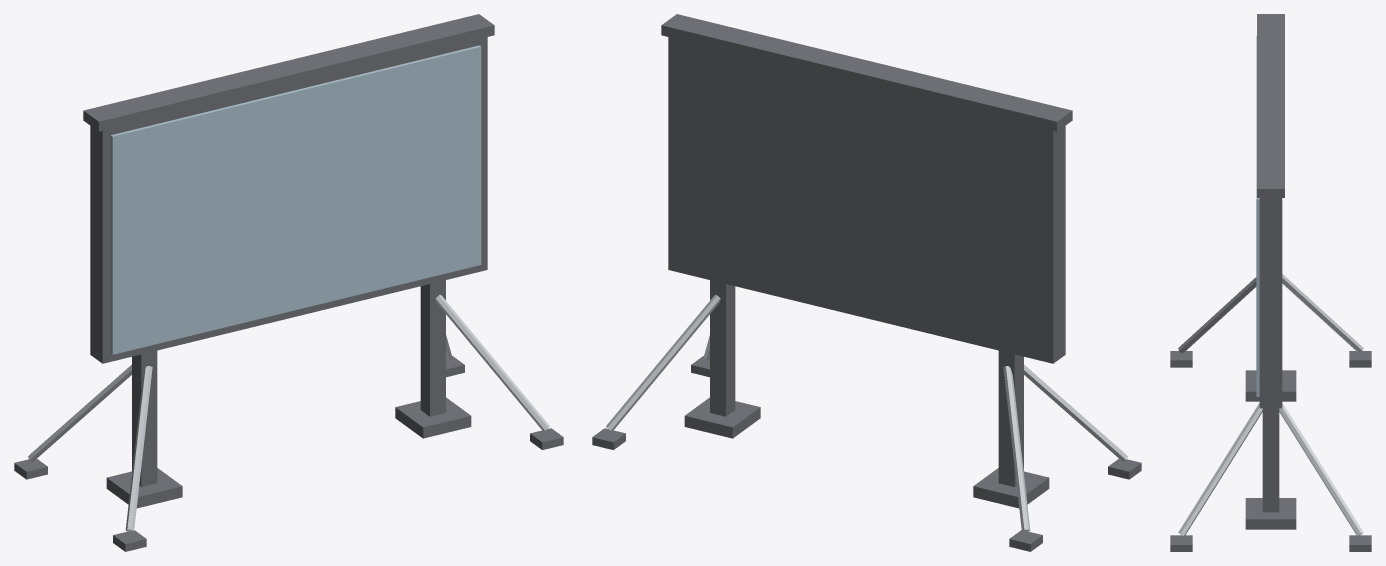
File: racecourse-and-parade-ring-big-screen-frame-9bea9827.glb
The picture shows the model from 3 angles, left to right: view 1: azimuth 30°, elevation 25°; view 2: azimuth 150°, elevation 25°; view 3: azimuth 270°, elevation 25°; orthographic projection. The views are drawn at different scales.
Visible parts, largest first — view 1: big-screen-frame; view 2: big-screen-frame; view 3: big-screen-frame.
Part boxes in pixels (x1,y1,x2,y2): big-screen-frame: [14, 14, 563, 551]; big-screen-frame: [592, 14, 1141, 551]; big-screen-frame: [1170, 14, 1371, 551].
Bounding box in the file's own units: 8.2 × 6.97 × 3.6.
